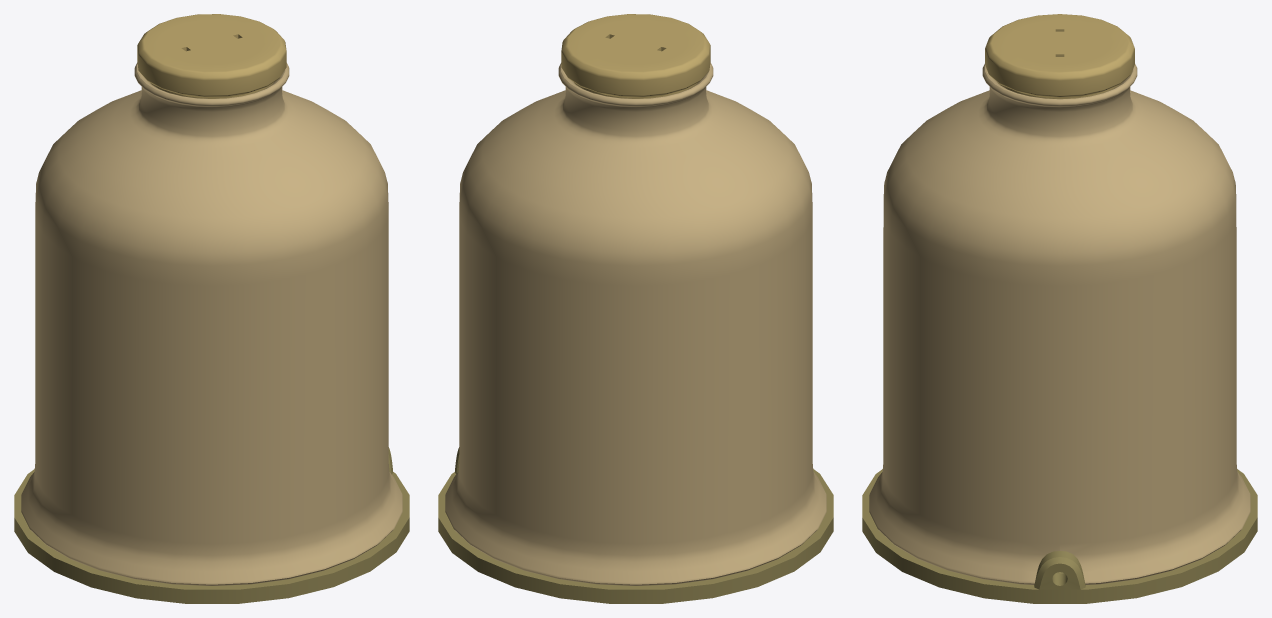
File: bellJar.glb
3 views of the same model, side by side, from view 1: azimuth 30°, elevation 25°; view 2: azimuth 150°, elevation 25°; view 3: azimuth 270°, elevation 25° (orthographic).
Visible parts, largest first — view 1: polySurface1, _valve, _base_lid; view 2: polySurface1, _valve, _base_lid; view 3: polySurface1, _valve, _base_lid.
Boxes of the visible parts, <box> form: polySurface1: <box>21,62,402,585</box>; _valve: <box>137,14,286,98</box>; _base_lid: <box>14,447,409,603</box>; polySurface1: <box>445,62,826,585</box>; _valve: <box>561,14,710,98</box>; _base_lid: <box>438,447,833,603</box>; polySurface1: <box>869,64,1250,584</box>; _valve: <box>985,14,1134,98</box>; _base_lid: <box>862,469,1257,603</box>.
Bounding box in the file's own units: 90.37 × 120 × 90.37.
